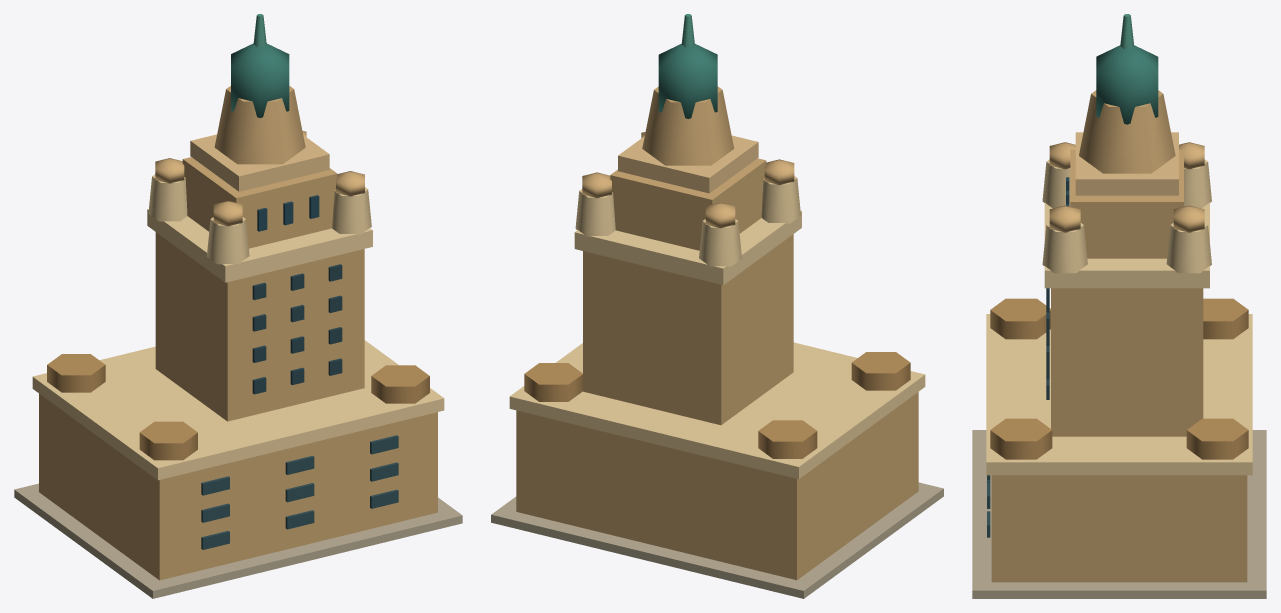
Rendered from palacio-salvo.glb.
The picture shows the model from 3 angles, left to right: view 1: azimuth 30°, elevation 25°; view 2: azimuth 150°, elevation 25°; view 3: azimuth 270°, elevation 25°; orthographic projection. The views are drawn at different scales.
Visible parts, largest first — view 1: body_C4B595, body_DED0AE, base_B8B49D, body_B8AA8B, tower_top_C4B595, detail_706E5C, body_DFCFAC, roof_7E8777, detail_776F57, roof_C4B595, detail_736E58; view 2: body_C4B595, body_DED0AE, base_B8B49D, body_B8AA8B, tower_top_C4B595, body_DFCFAC, roof_7E8777, roof_C4B595; view 3: body_C4B595, body_DED0AE, base_B8B49D, body_B8AA8B, tower_top_C4B595, roof_7E8777, body_DFCFAC, roof_C4B595, detail_776F57.
Part boxes in pixels (x1=…): body_C4B595: x1=39, y1=157, x2=437, y2=580; body_DED0AE: x1=32, y1=174, x2=444, y2=480; base_B8B49D: x1=14, y1=483, x2=462, y2=598; body_B8AA8B: x1=47, y1=354, x2=429, y2=460; tower_top_C4B595: x1=214, y1=86, x2=305, y2=164; detail_706E5C: x1=201, y1=435, x2=398, y2=549; body_DFCFAC: x1=190, y1=134, x2=329, y2=191; roof_7E8777: x1=231, y1=43, x2=289, y2=117; detail_776F57: x1=252, y1=264, x2=342, y2=394; roof_C4B595: x1=155, y1=131, x2=364, y2=226; detail_736E58: x1=257, y1=195, x2=319, y2=231; body_C4B595: x1=516, y1=158, x2=918, y2=580; body_DED0AE: x1=509, y1=176, x2=925, y2=479; base_B8B49D: x1=491, y1=482, x2=943, y2=598; body_B8AA8B: x1=524, y1=352, x2=910, y2=458; tower_top_C4B595: x1=642, y1=86, x2=734, y2=165; body_DFCFAC: x1=618, y1=135, x2=758, y2=193; roof_7E8777: x1=658, y1=44, x2=717, y2=118; roof_C4B595: x1=582, y1=132, x2=794, y2=228; body_C4B595: x1=991, y1=149, x2=1247, y2=582; body_DED0AE: x1=986, y1=159, x2=1252, y2=475; base_B8B49D: x1=972, y1=430, x2=1266, y2=598; body_B8AA8B: x1=990, y1=298, x2=1248, y2=459; tower_top_C4B595: x1=1079, y1=90, x2=1175, y2=173; roof_7E8777: x1=1096, y1=45, x2=1158, y2=124; body_DFCFAC: x1=1075, y1=132, x2=1178, y2=195; roof_C4B595: x1=1049, y1=142, x2=1204, y2=232; detail_776F57: x1=1046, y1=288, x2=1049, y2=399.
Bounding box in the file's own units: 1 × 1.5 × 0.7755.
